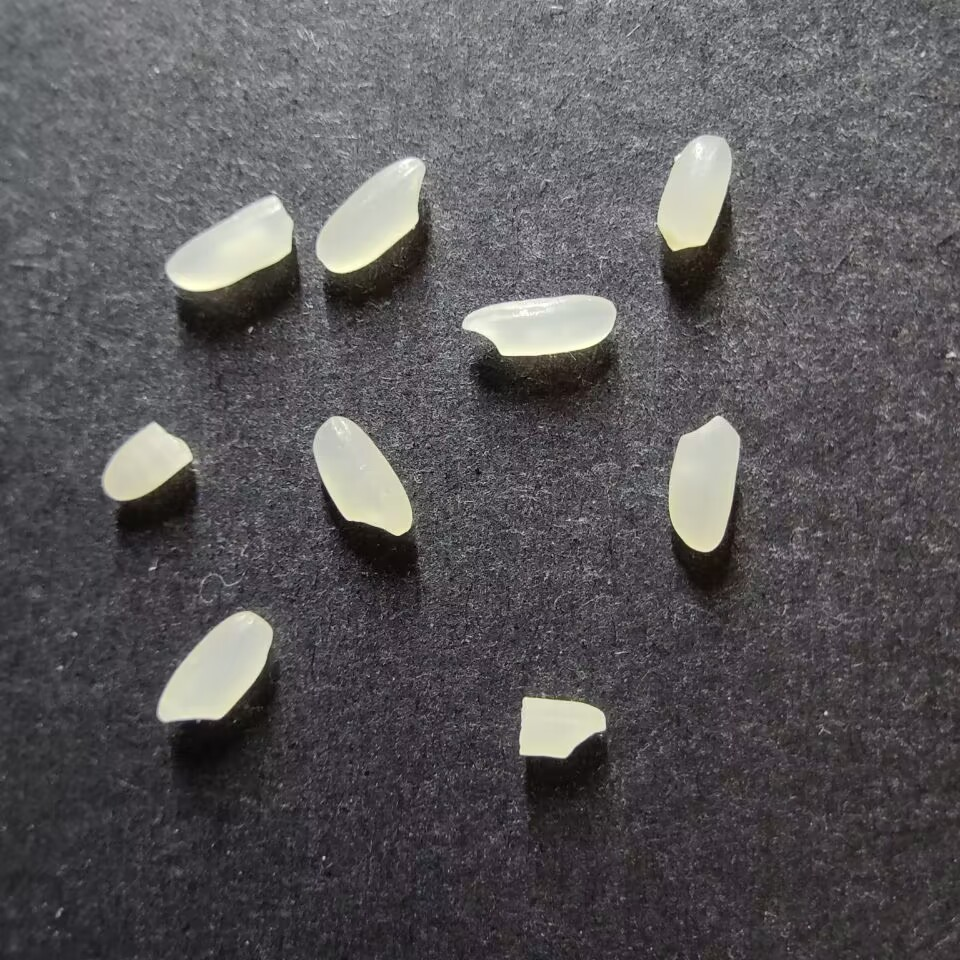broken: (100, 421, 194, 502), (516, 696, 608, 759)
rice: (155, 609, 272, 724), (313, 156, 426, 274), (163, 196, 295, 292), (311, 415, 413, 536), (667, 414, 742, 552), (460, 293, 616, 357), (655, 133, 733, 251)
